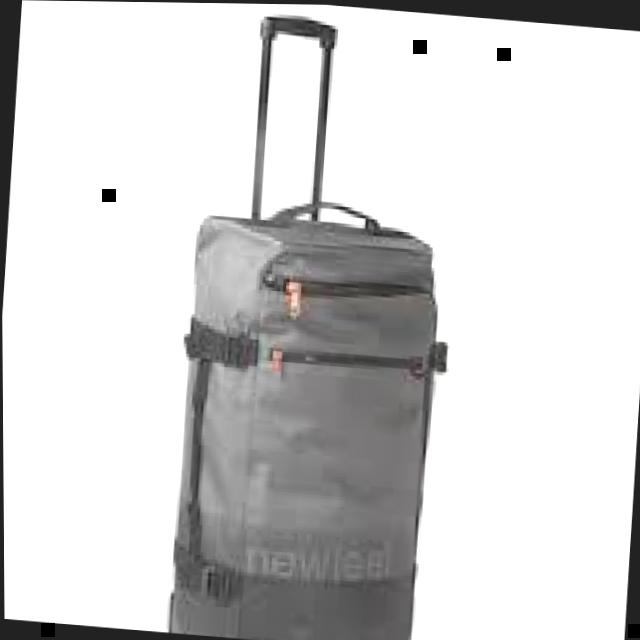luggage: (150, 185, 473, 640)
